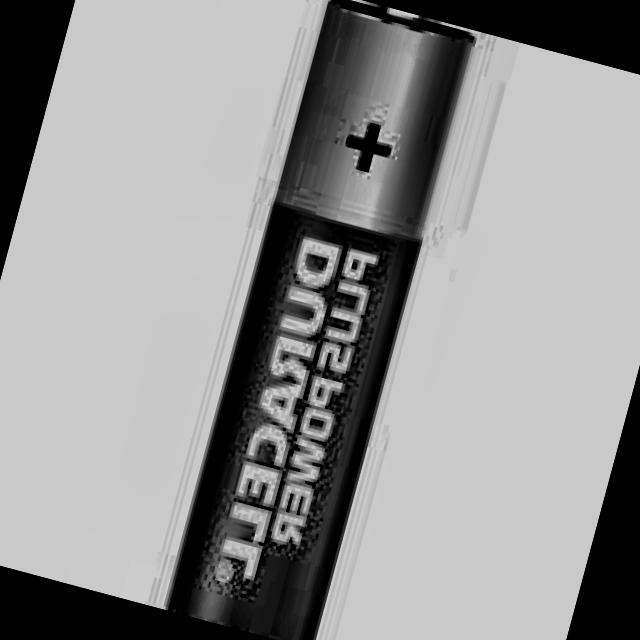Battery: (164, 0, 475, 640)
